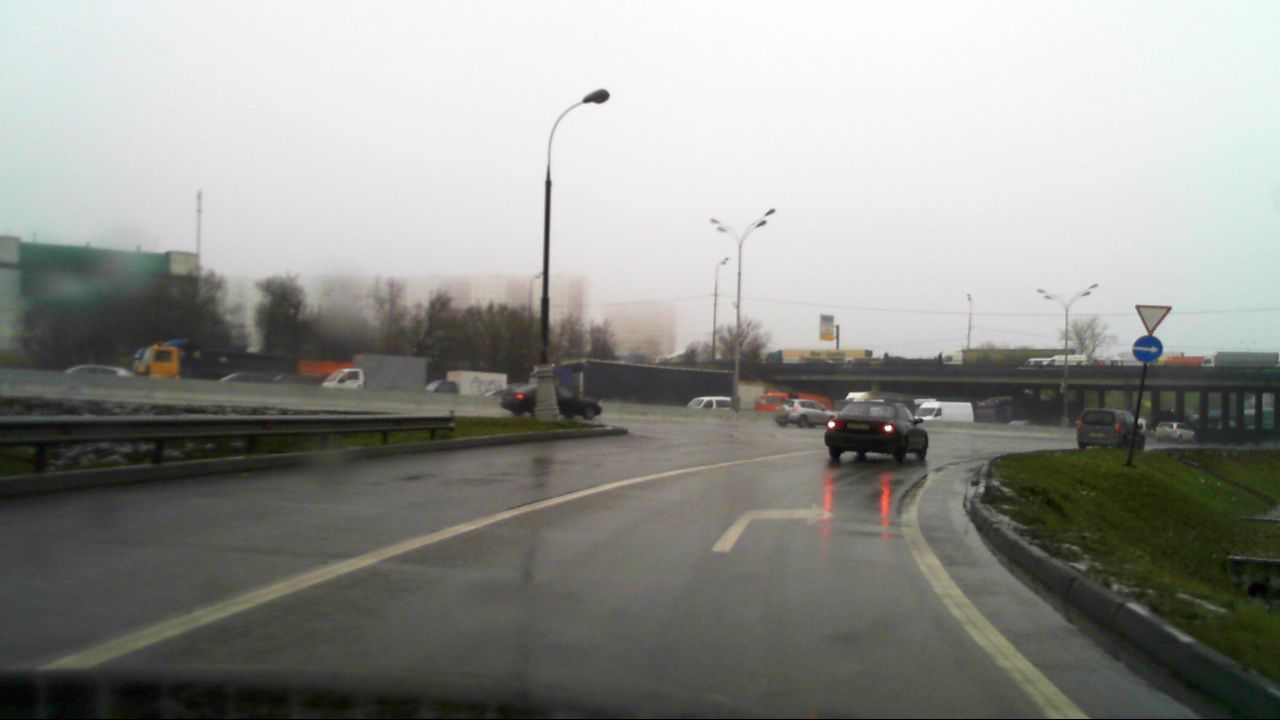Turn Right: (1133, 336, 1163, 362)
